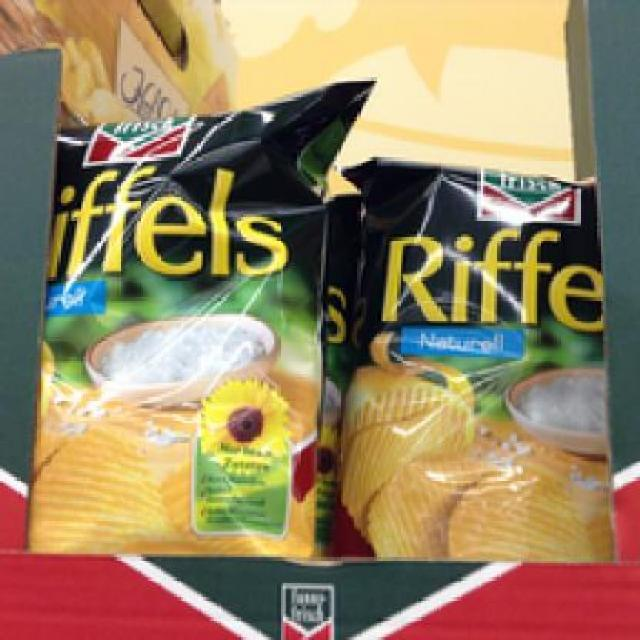Chips: (19, 82, 352, 552), (340, 154, 609, 563)
